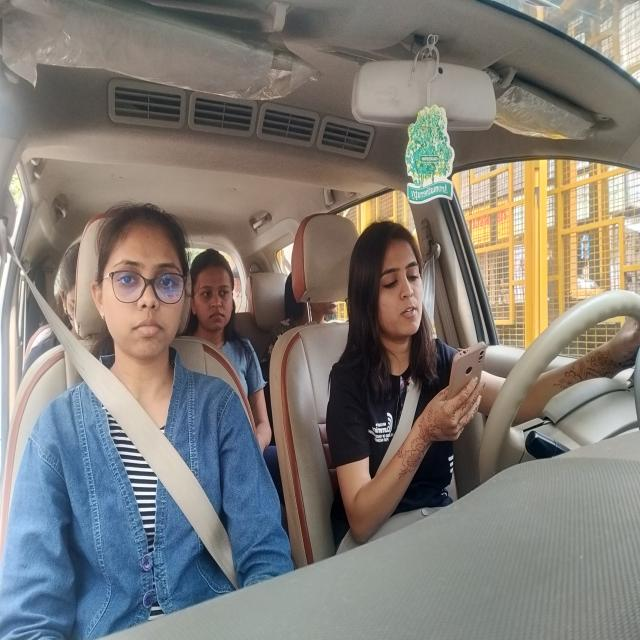mobile: (450, 342, 491, 424)
person: (94, 210, 194, 360), (348, 222, 429, 342), (197, 246, 240, 339), (61, 246, 85, 340), (285, 290, 342, 321)
